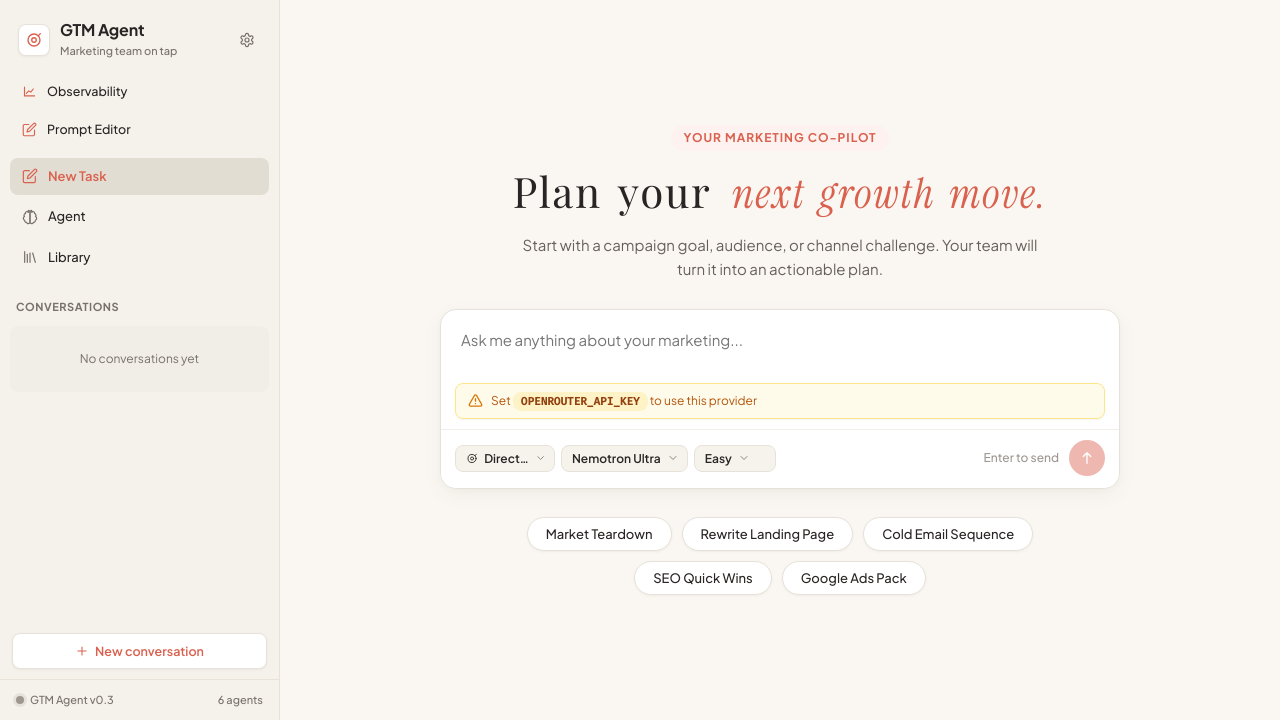
Test: App conversation threads regression suite › saves streamed messages to localStorage and creates sidebar thread entry
Check: the text "GTM Agent" is shown, box [60,19,144,40]
Type "Create SEO campaign plan" into the text box with placeholder "Ask me anything about your marketing...".
click(780, 342); type("Create SEO campaign plan")  # box [441,310,1119,374]
Then press Enter
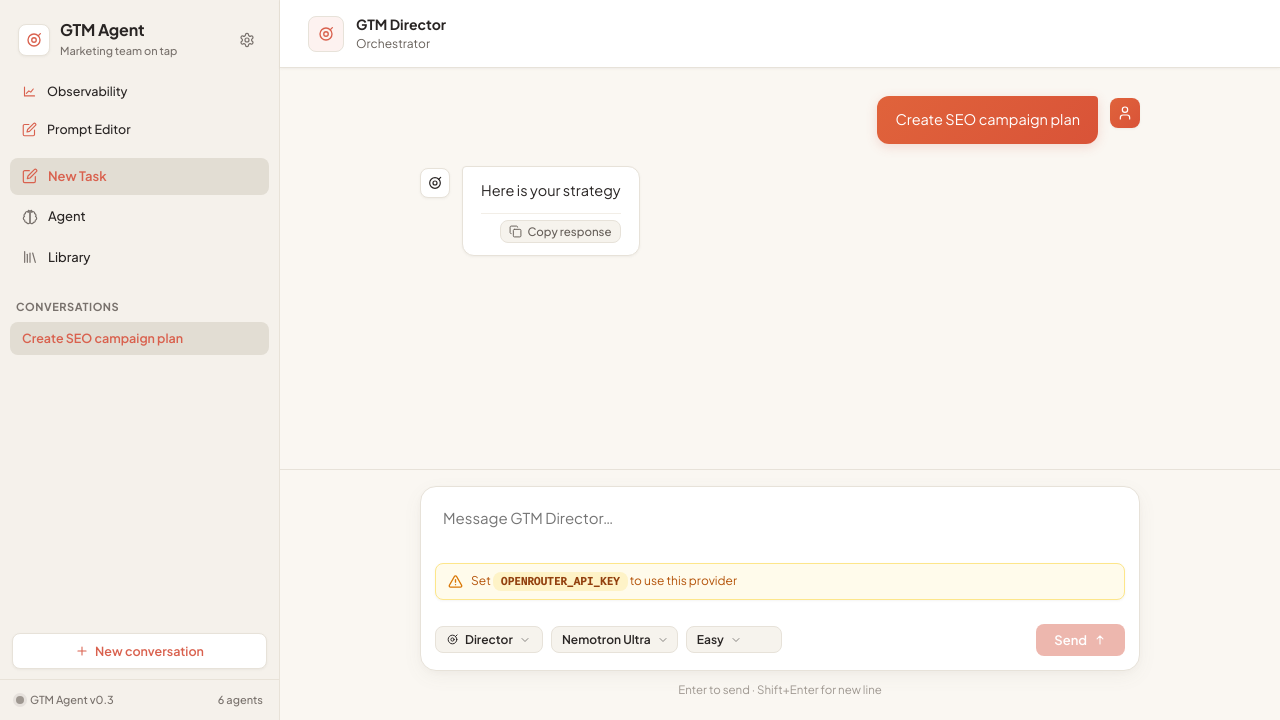
Check: the text "Create SEO campaign plan" below "Conversations" is shown, box [22,330,183,346]
Check: the text "Here is your strategy" is shown, box [481,179,620,203]
